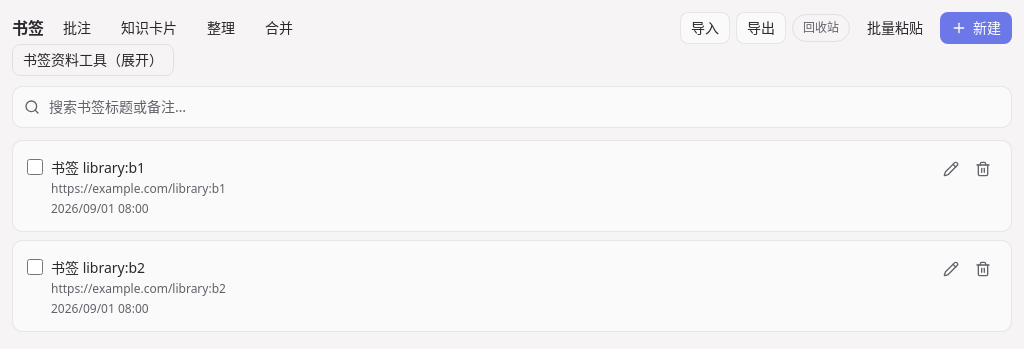
Test: BookmarksPage › 删除：点击「删除书签」立即删除（无二次确认），行消失
Expected: the link "书签 library:b2" is shown, [51, 258, 145, 277]
Click the button named "删除书签" in the row of "https://example.com/library:b2" at (983, 269), box [969, 255, 997, 283]
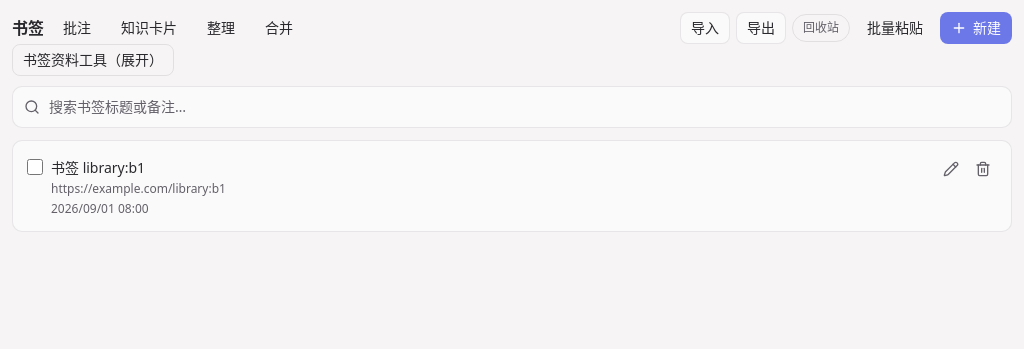
Now the link "书签 library:b2" is gone
